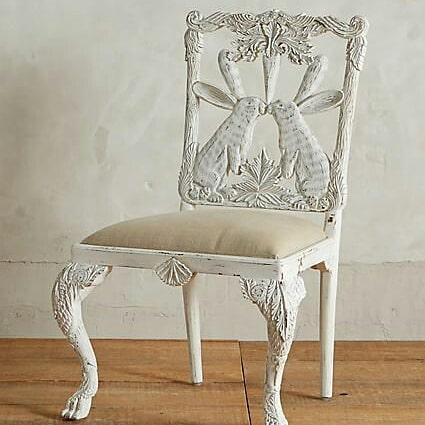Carving Chair: (57, 23, 356, 425)
